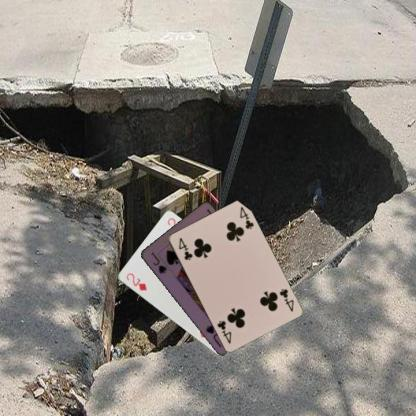2d: (124, 270, 148, 292)
4c: (276, 286, 295, 313), (176, 235, 193, 261)
Js: (148, 249, 167, 275)
